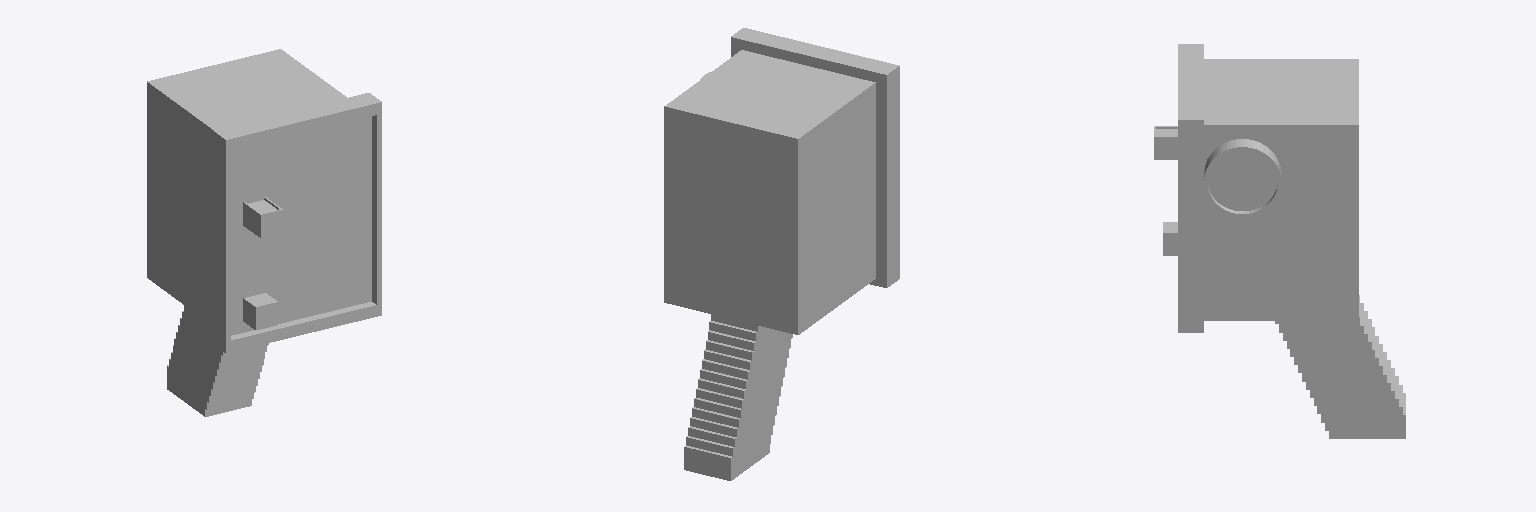
Rendered from portal_building.obj.
The picture shows the model from 3 angles: view 1: azimuth 30°, elevation 25°; view 2: azimuth 150°, elevation 25°; view 3: azimuth 270°, elevation 25°; orthographic projection.
Visible parts, largest first — view 1: Roof, Building, Cube.002, Cube, Cube.001; view 2: Building, Cube.002, Roof; view 3: Building, Cube.002, Roof, Portal, Cube.
Boxes of the visible parts, x1,y1,x2,y2 form: Roof: [213, 93, 381, 352]; Building: [147, 49, 346, 325]; Cube.002: [167, 305, 268, 416]; Cube: [243, 197, 282, 237]; Cube.001: [243, 293, 277, 329]; Building: [664, 50, 875, 334]; Cube.002: [684, 314, 792, 480]; Roof: [731, 28, 899, 287]; Building: [1204, 59, 1358, 320]; Cube.002: [1275, 295, 1405, 438]; Roof: [1178, 44, 1203, 332]; Portal: [1204, 139, 1280, 216]; Cube: [1154, 126, 1177, 159].
Size of the model in its own units: 14.5 by 29.6 by 19.61.